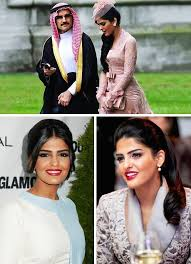middle_eastern_Female: (34, 129, 74, 183)
